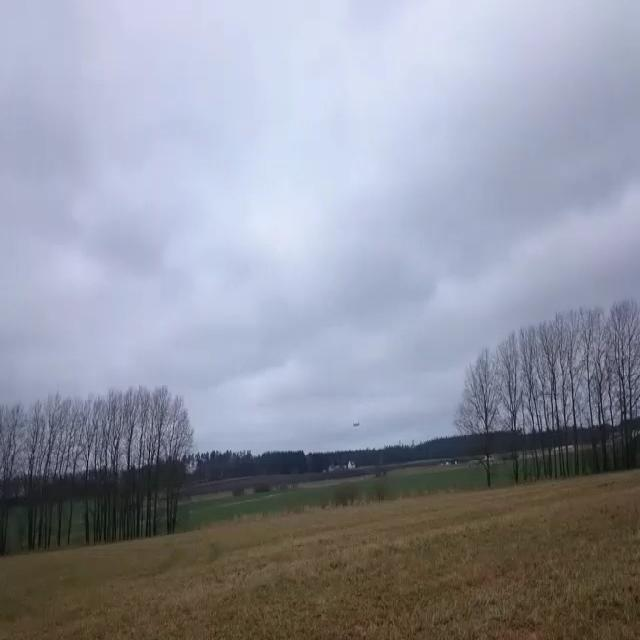drone: (353, 422, 360, 429)
